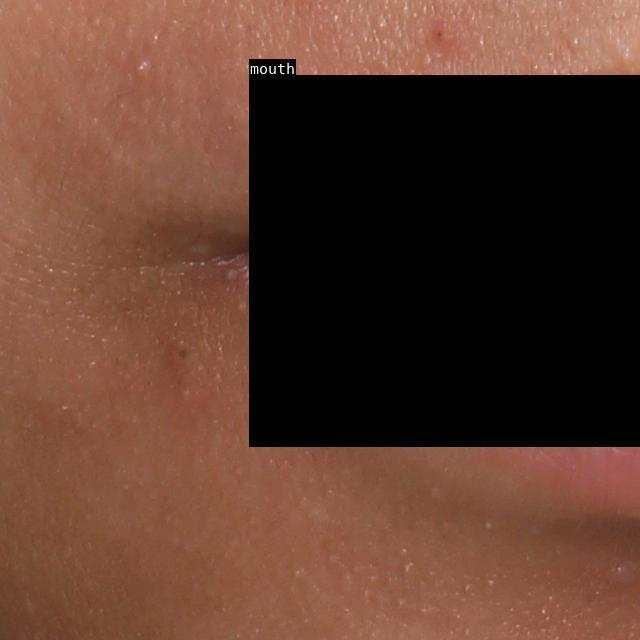comedo: (172, 339, 194, 365), (132, 54, 153, 77), (564, 32, 582, 53)
papule: (431, 21, 458, 49)
